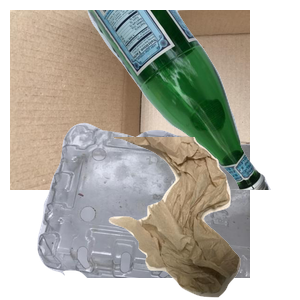cardboard: (10, 10, 250, 190)
glass: (75, 10, 300, 190)
plastic: (35, 120, 275, 300)
trash: (103, 137, 300, 300)
